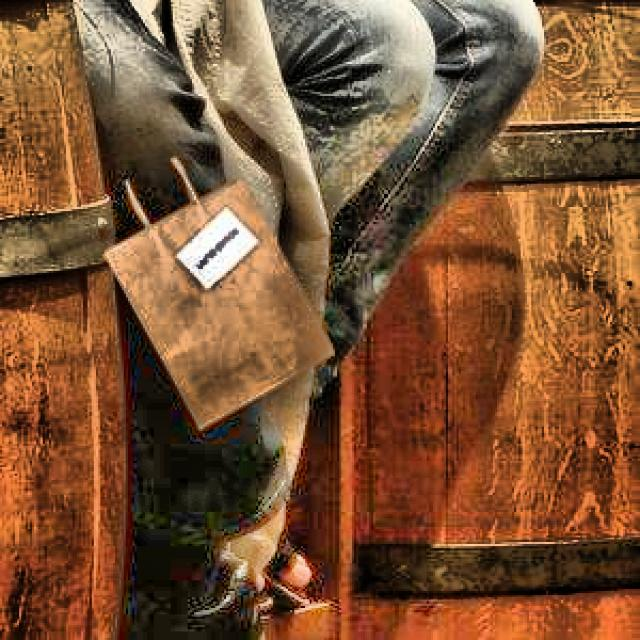Paper-bag: (97, 140, 340, 428)
